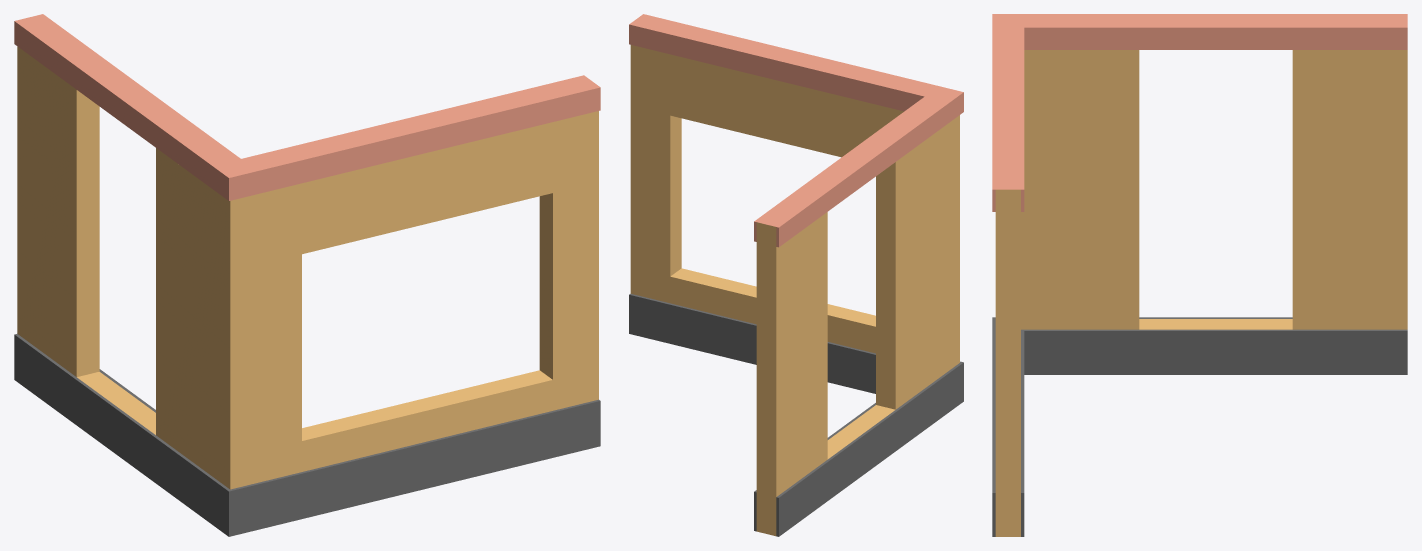
File: Wall05-06.fbx
3 views of the same model, side by side, from view 1: azimuth 30°, elevation 25°; view 2: azimuth 150°, elevation 25°; view 3: azimuth 270°, elevation 25° (orthographic). The views are drawn at different scales.
Parts seen in each view (by area): view 1: Wall05-06; view 2: Wall05-06; view 3: Wall05-06.
Boxes of the visible parts, box(x1,y1,x2,y2) form: Wall05-06: box(14, 14, 600, 536); Wall05-06: box(629, 14, 963, 536); Wall05-06: box(992, 14, 1407, 536).
Size of the model in its own units: 3.25 by 3.25 by 3.
